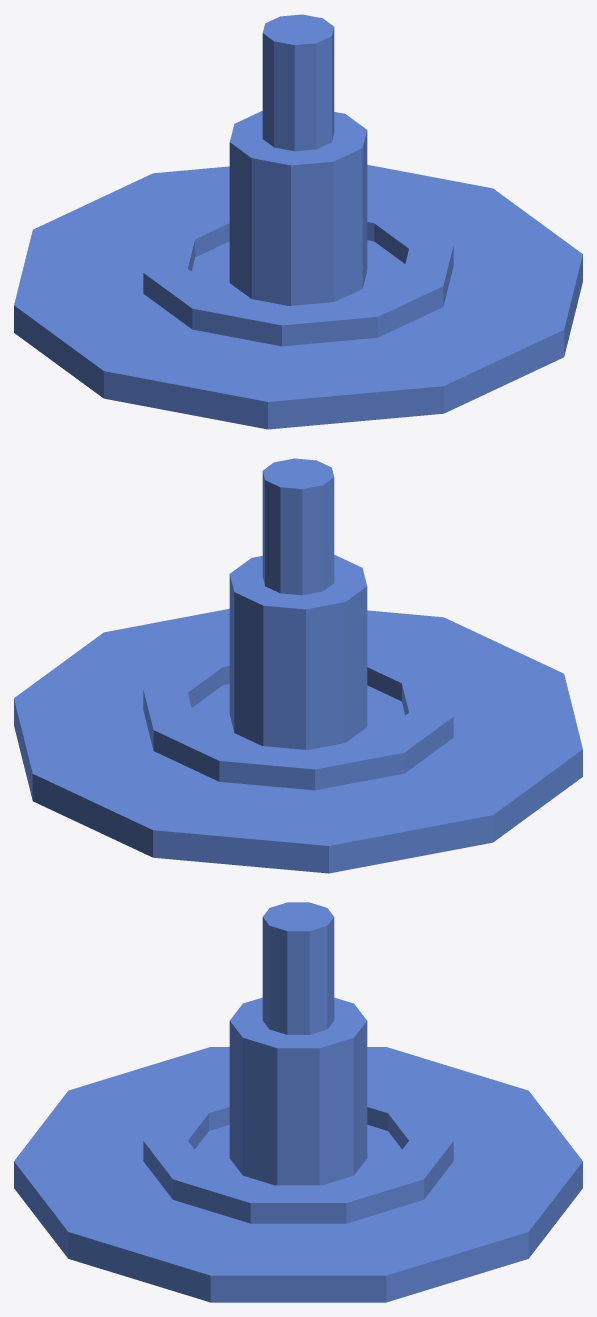
File: Water_Fountain.fbx
The picture shows the model from 3 angles, top to bottom: view 1: azimuth 30°, elevation 25°; view 2: azimuth 150°, elevation 25°; view 3: azimuth 270°, elevation 25°; orthographic projection. The views are drawn at different scales.
Parts seen in each view (by area): view 1: Water Fountain; view 2: Water Fountain; view 3: Water Fountain.
Part boxes in pixels (<box>): Water Fountain: <box>14,14,582,429</box>; Water Fountain: <box>14,458,582,873</box>; Water Fountain: <box>14,902,582,1302</box>.
Size of the model in its own units: 1558 by 862 by 1638.
